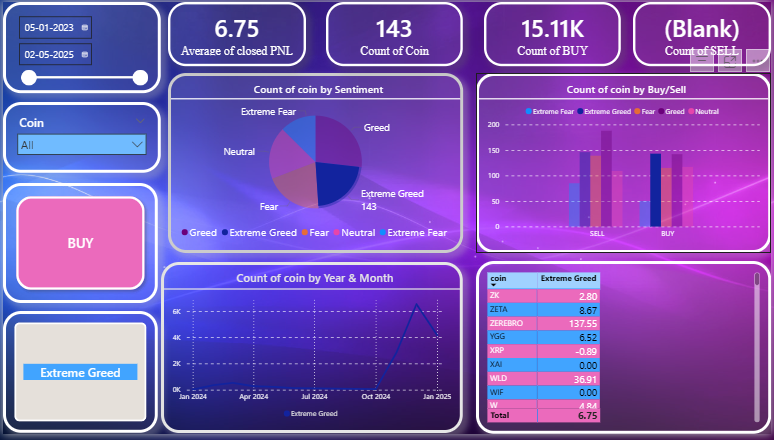

What the dashboard file says about the page in this screenshot:
{"tool":"powerbi","page":{"name":"Page 1","canvas":[1280,720],"ordinal":0},"visuals":[{"type":"pieChart","fields":{"Category":["clean_trader_sentiment (1).classification"],"Y":["Count(clean_trader_sentiment (1).coin)"]},"box":[275,118.3,491.7,300],"z":3},{"type":"lineChart","fields":{"Series":["clean_trader_sentiment (1).classification"],"Y":["CountNonNull(clean_trader_sentiment (1).coin)"],"Category":["clean_trader_sentiment (1).date.Variation.Date Hierarchy.Year","clean_trader_sentiment (1).date.Variation.Date Hierarchy.Month"]},"box":[263.3,433.3,503.3,285],"z":5},{"type":"clusteredColumnChart","fields":{"Category":["clean_trader_sentiment (1).side"],"Series":["clean_trader_sentiment (1).classification"],"Y":["Count(clean_trader_sentiment (1).coin)"]},"box":[788.3,118.3,491.7,300],"z":6},{"type":"pivotTable","fields":{"Rows":["clean_trader_sentiment (1).coin"],"Columns":["clean_trader_sentiment (1).classification"],"Values":["Avg(clean_trader_sentiment (1).closed pnl)"]},"box":[788.3,431.7,491.7,288.3],"z":7},{"type":"slicer","fields":{"Values":["clean_trader_sentiment (1).date"]},"box":[0,0,263.3,151.7],"z":8},{"type":"slicer","fields":{"Values":["clean_trader_sentiment (1).coin"]},"box":[0,166.7,263.3,118.3],"z":9},{"type":"advancedSlicerVisual","fields":{"Values":["clean_trader_sentiment (1).side"]},"box":[0,301.7,258.3,200],"z":10},{"type":"advancedSlicerVisual","fields":{"Values":["clean_trader_sentiment (1).classification"]},"box":[0,515,258.3,203.3],"z":11},{"type":"card","title":"yum","fields":{"Values":["Avg(clean_trader_sentiment (1).closed pnl)"]},"box":[275,0,230,106.7],"z":12},{"type":"card","title":"yum","fields":{"Values":["Count(clean_trader_sentiment (1).coin)"]},"box":[538.3,0,228.3,106.7],"z":13},{"type":"card","title":"yum","fields":{"Values":["CountNonNull(clean_trader_sentiment (1).side)"]},"box":[801.7,0,228.3,106.7],"z":14},{"type":"card","title":"yum","fields":{"Values":["CountNonNull(clean_trader_sentiment (1).side)"]},"box":[1050,0,230,106.7],"z":15}]}

Visuals, with their boxes in screenshot pixels (x1, y1, x2, y2), scaled from the page's 1280x720 canvas onto the 774x440 screenshot:
pieChart - clean_trader_sentiment (1).classification x Count(clean_trader_sentiment (1).coin): (166, 72, 464, 256)
lineChart - clean_trader_sentiment (1).classification x CountNonNull(clean_trader_sentiment (1).coin): (159, 265, 464, 439)
clusteredColumnChart - clean_trader_sentiment (1).side x clean_trader_sentiment (1).classification: (477, 72, 773, 256)
pivotTable - clean_trader_sentiment (1).coin x clean_trader_sentiment (1).classification: (477, 264, 773, 439)
slicer - clean_trader_sentiment (1).date: (0, 0, 159, 93)
slicer - clean_trader_sentiment (1).coin: (0, 102, 159, 174)
advancedSlicerVisual - clean_trader_sentiment (1).side: (0, 184, 156, 307)
advancedSlicerVisual - clean_trader_sentiment (1).classification: (0, 315, 156, 439)
"yum" card: (166, 0, 305, 65)
"yum" card: (326, 0, 464, 65)
"yum" card: (485, 0, 623, 65)
"yum" card: (635, 0, 773, 65)
